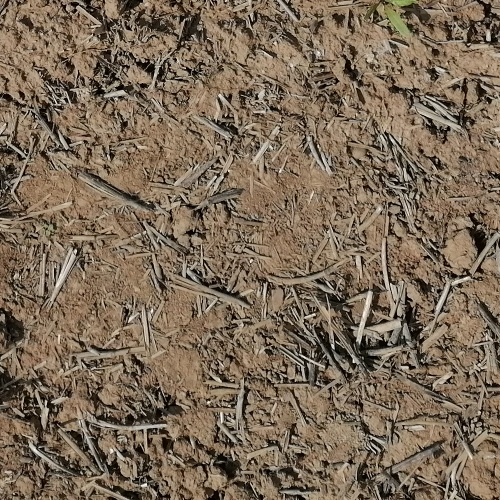beet: (371, 0, 415, 41)
